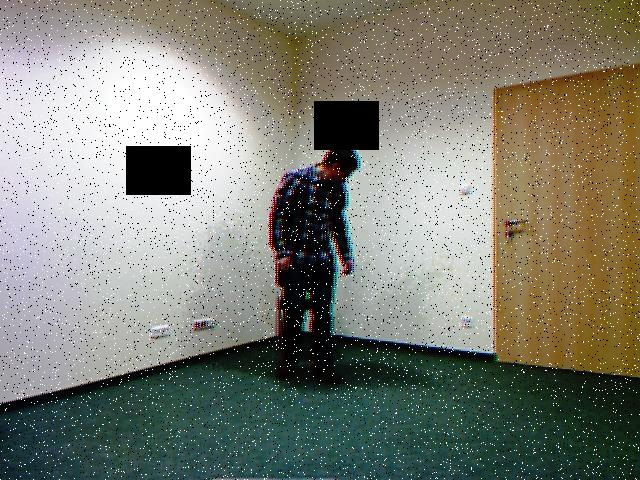walking: (270, 119, 362, 388)
